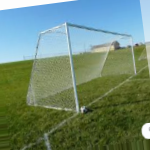goals: (25, 22, 137, 114)
